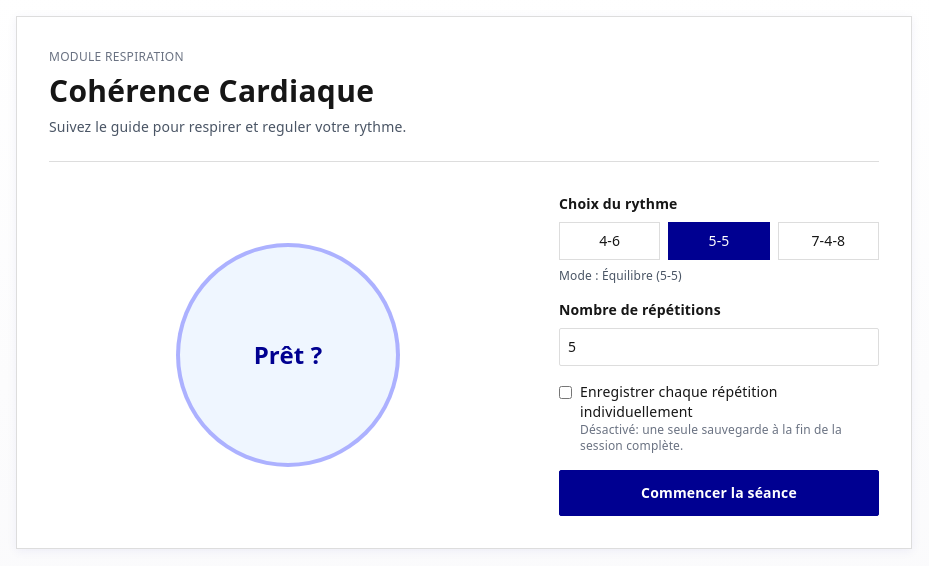
Scenario: Exercise page › switches breathing mode label when mode changes
Click the button "4-6".
click(610, 241)  # box x1=559 y1=222 x2=660 y2=260
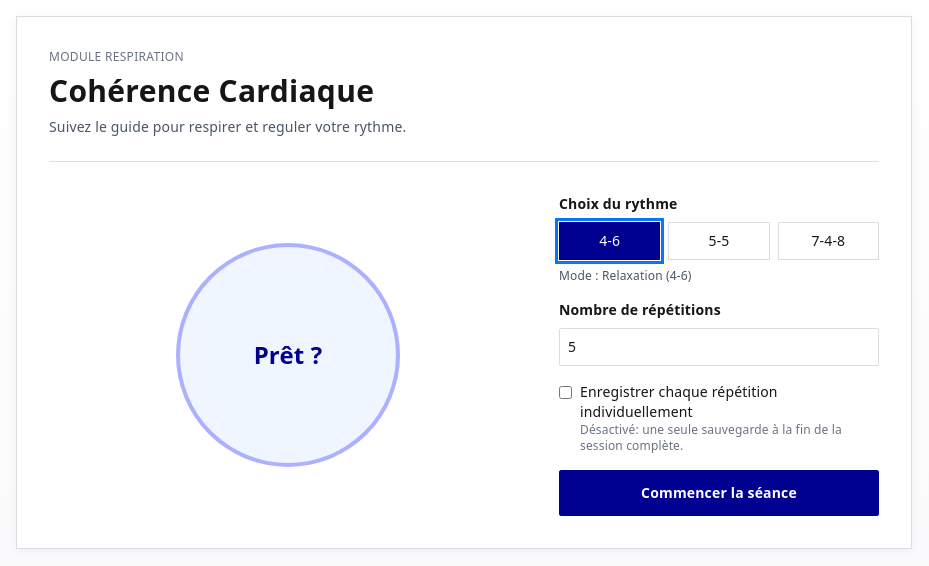
Check: the text "Mode : Relaxation (4-6)" is shown, box x1=559 y1=267 x2=692 y2=284
Click the button "7-4-8".
click(828, 241)  # box x1=778 y1=222 x2=879 y2=260
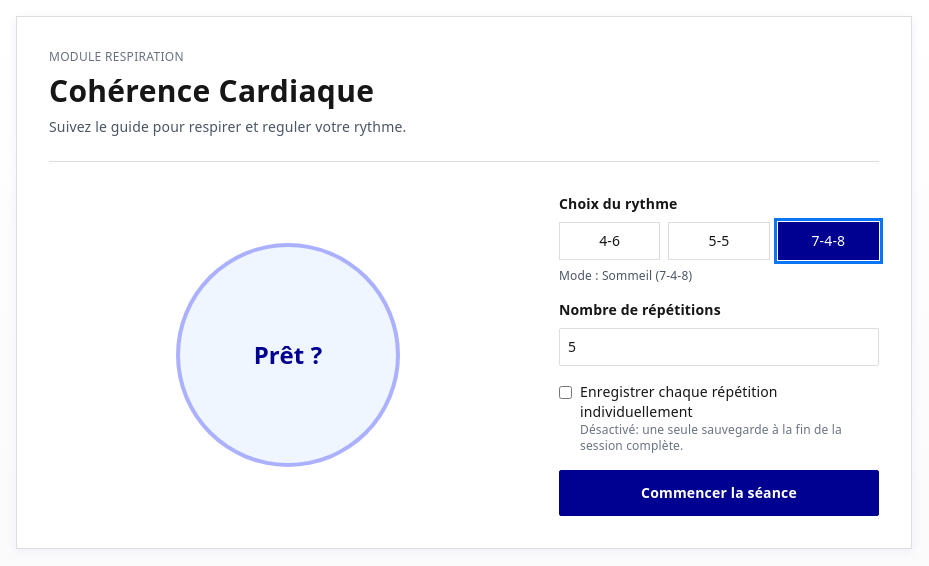
Check: the text "Mode : Sommeil (7-4-8)" is shown, box x1=559 y1=267 x2=692 y2=284
